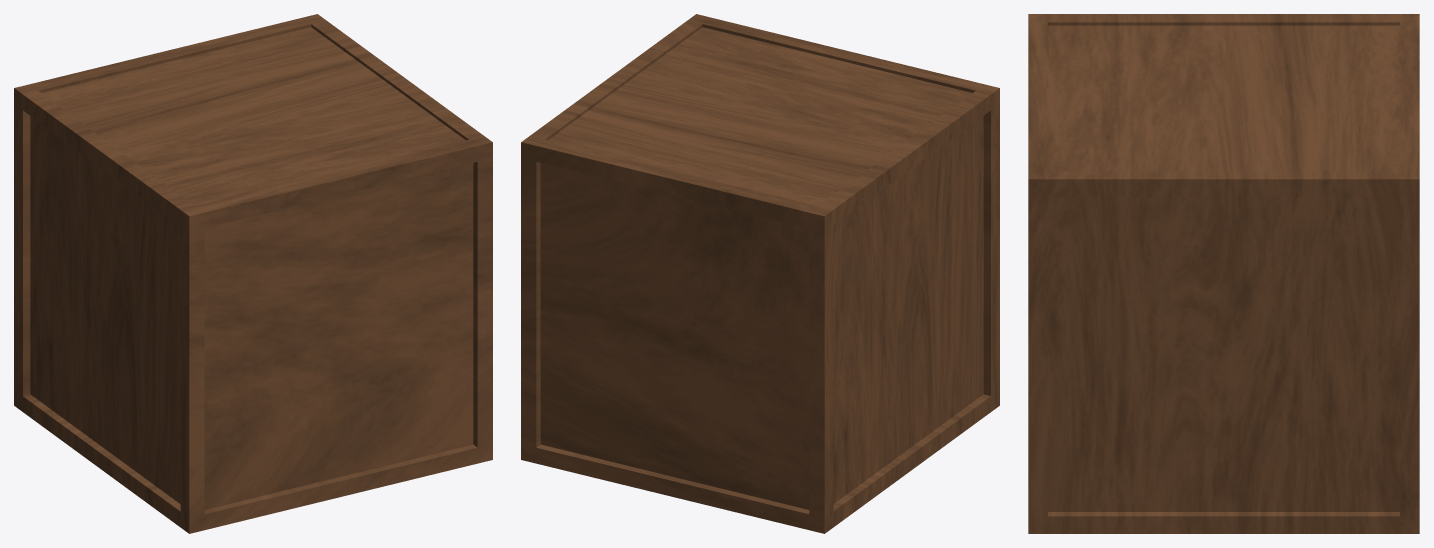
File: Display.fbx
3 views of the same model, side by side, from view 1: azimuth 30°, elevation 25°; view 2: azimuth 150°, elevation 25°; view 3: azimuth 270°, elevation 25° (orthographic). The views are drawn at different scales.
Visible parts, largest first — view 1: Cube.002; view 2: Cube.002; view 3: Cube.002.
Part boxes in pixels (bbox=[...]): Cube.002: bbox=[14, 14, 492, 533]; Cube.002: bbox=[521, 14, 999, 533]; Cube.002: bbox=[1028, 14, 1419, 533].
Size of the model in its own units: 200 by 200 by 200.
